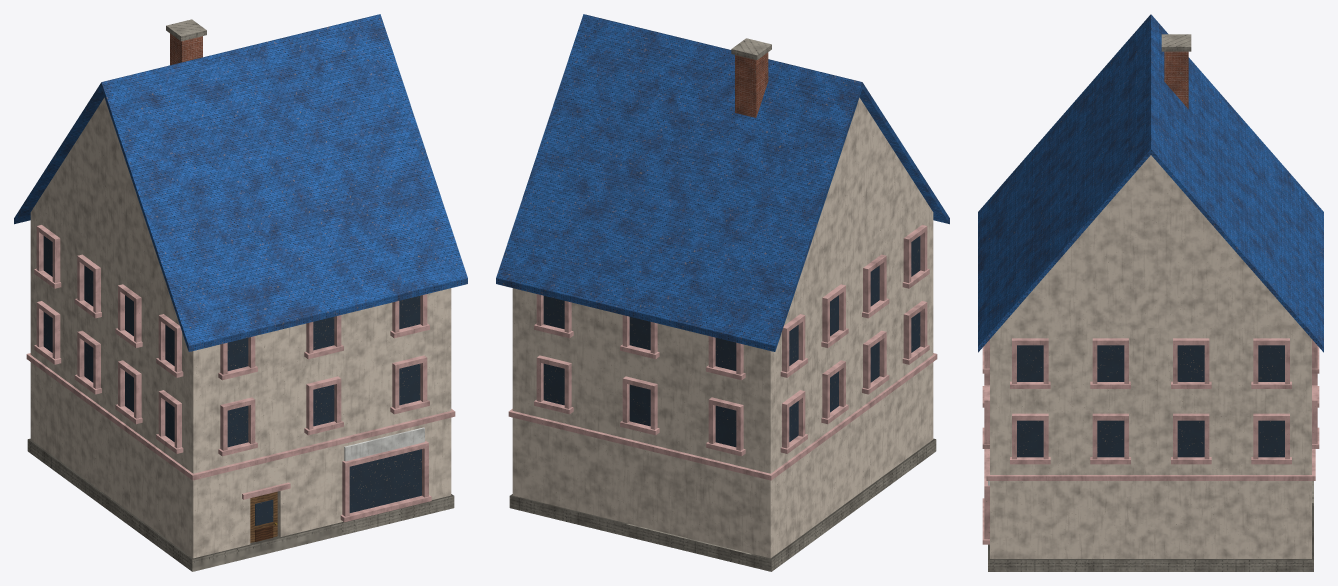
The model's file is Bld_TownHouse_C.fbx.
The picture shows the model from 3 angles, left to right: view 1: azimuth 30°, elevation 25°; view 2: azimuth 150°, elevation 25°; view 3: azimuth 270°, elevation 25°; orthographic projection.
Visible parts, largest first — view 1: Roof, Walls_Room, Windows_Upper, ShopFront, Plinth, FloorBand, Chimney, Door_TownHouse_C; view 2: Roof, Walls_Room, Windows_Upper, Plinth, FloorBand, Chimney; view 3: Roof, Walls_Room, Windows_Upper, Plinth, FloorBand, Chimney, ShopFront.
Boxes of the visible parts, bbox=[...] form: Roof: bbox=[14, 14, 467, 351]; Walls_Room: bbox=[30, 208, 451, 558]; Windows_Upper: bbox=[34, 225, 429, 456]; ShopFront: bbox=[242, 427, 431, 522]; Plinth: bbox=[27, 438, 454, 571]; FloorBand: bbox=[26, 353, 455, 480]; Chimney: bbox=[166, 19, 206, 65]; Door_TownHouse_C: bbox=[250, 491, 277, 542]; Roof: bbox=[496, 14, 949, 351]; Walls_Room: bbox=[512, 208, 933, 558]; Windows_Upper: bbox=[534, 225, 929, 456]; Plinth: bbox=[509, 438, 936, 571]; FloorBand: bbox=[508, 353, 937, 480]; Chimney: bbox=[731, 38, 771, 117]; Roof: bbox=[978, 14, 1323, 352]; Walls_Room: bbox=[990, 328, 1311, 558]; Windows_Upper: bbox=[982, 338, 1319, 464]; Plinth: bbox=[988, 481, 1313, 571]; FloorBand: bbox=[986, 449, 1315, 480]; Chimney: bbox=[1161, 34, 1191, 108]; ShopFront: bbox=[982, 449, 989, 544].
Size of the model in its own units: 11.9 by 18.44 by 12.9.
